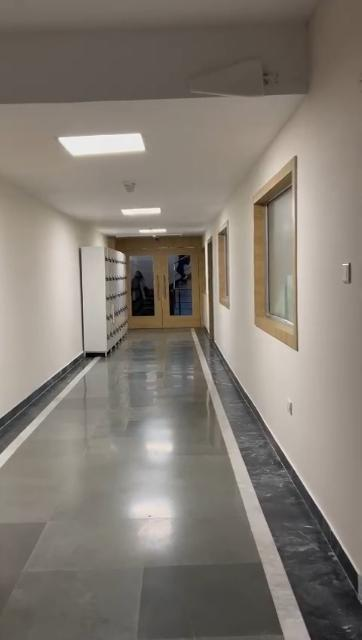door: (126, 233, 208, 331)
floor: (0, 330, 362, 640)
wall: (205, 4, 362, 571), (0, 183, 83, 417), (234, 208, 250, 324)
